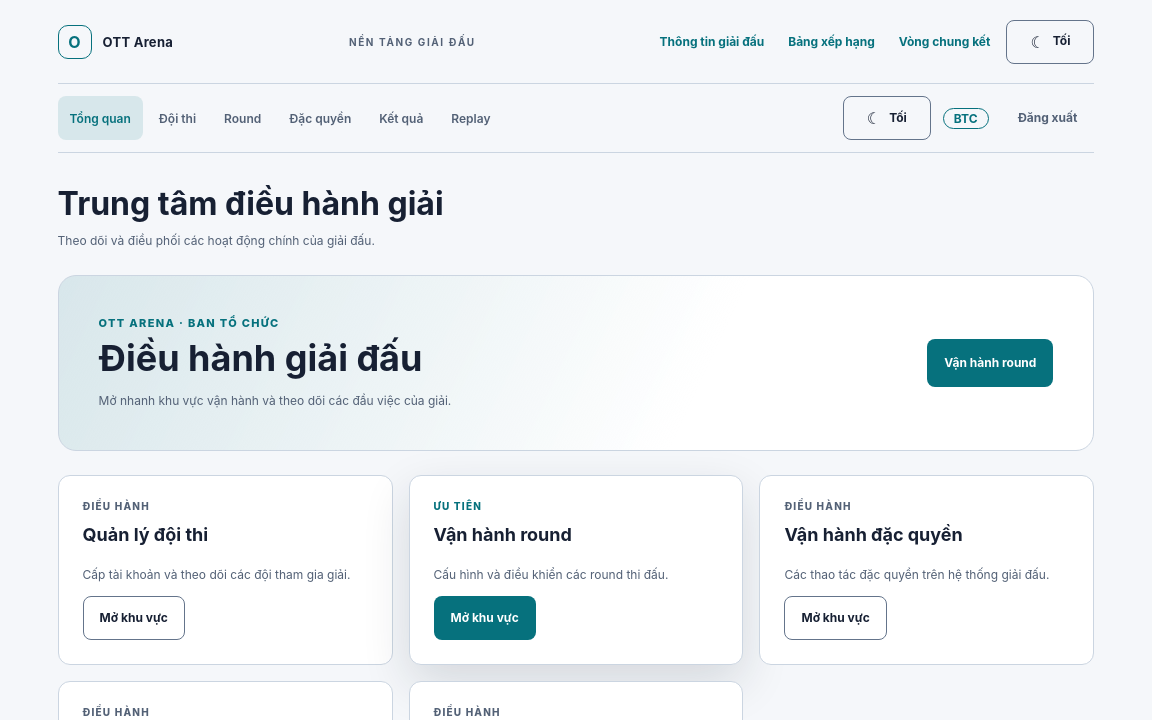
Test: authentication routes › logs out through the API and returns to login
This screenshot has width=1152, height=720.
Click the button "Đăng xuất": point(1048, 118) [1001,96,1094,140]
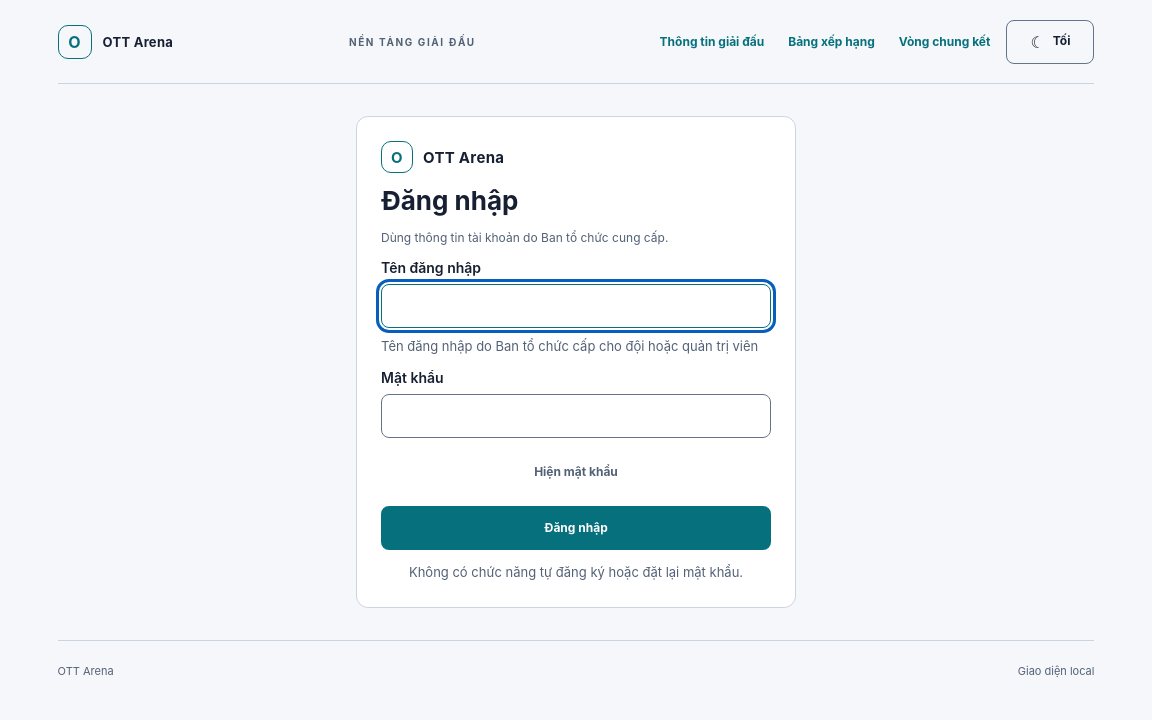
Expected: the heading "Đăng nhập" is shown, [381,185,518,216]
